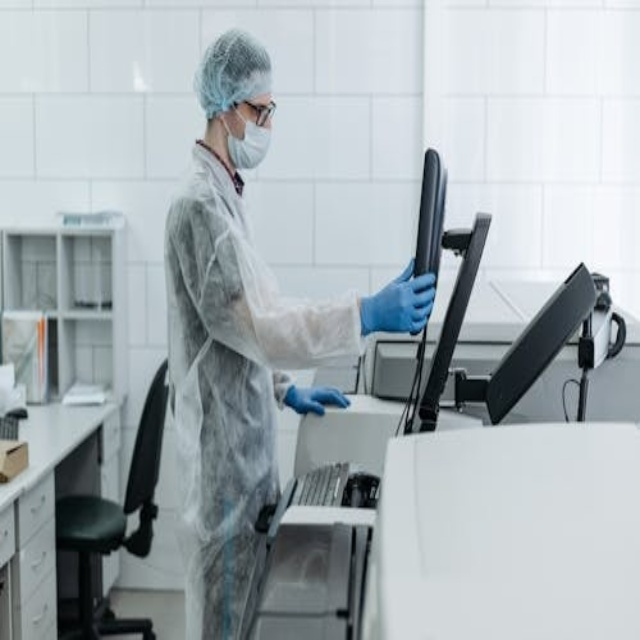Gafas: (237, 98, 276, 126)
Guantes: (360, 264, 436, 339), (284, 384, 350, 417)
Mascara: (224, 104, 272, 171)
